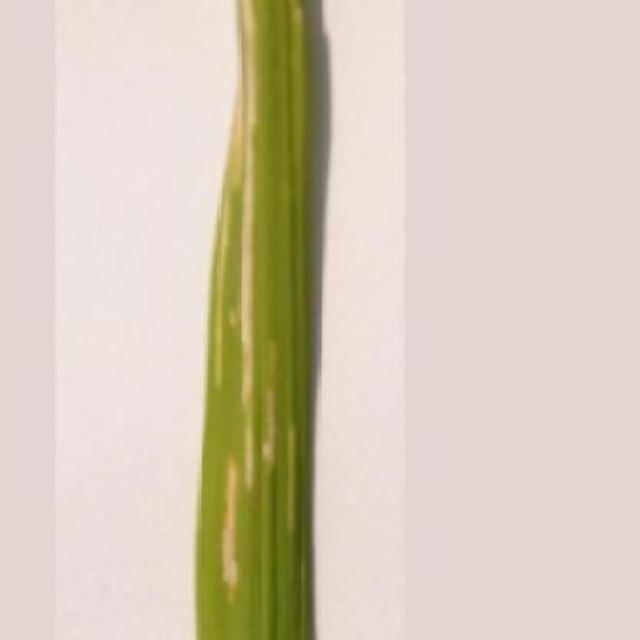Brown_Spot: (184, 0, 318, 640)
